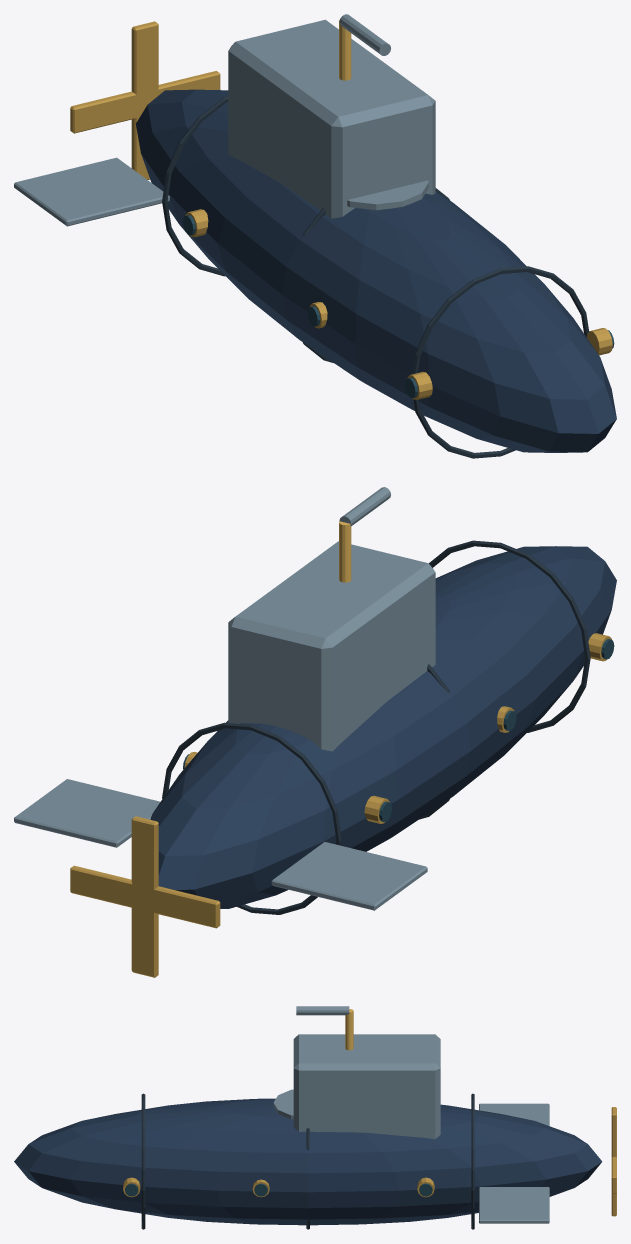
The model's file is submarines-torpedo-sub.lod0.glb.
The picture shows the model from 3 angles, top to bottom: view 1: azimuth 30°, elevation 25°; view 2: azimuth 150°, elevation 25°; view 3: azimuth 270°, elevation 25°; orthographic projection. The views are drawn at different scales.
Parts seen in each view (by area): view 1: submarines-torpedo-sub__body, submarines-torpedo-sub__propeller, submarines-torpedo-sub__hatch; view 2: submarines-torpedo-sub__body, submarines-torpedo-sub__propeller; view 3: submarines-torpedo-sub__body, submarines-torpedo-sub__propeller, submarines-torpedo-sub__hatch.
Boxes of the visible parts, <box> form: submarines-torpedo-sub__body: <box>14,14,616,458</box>; submarines-torpedo-sub__propeller: <box>70,21,220,179</box>; submarines-torpedo-sub__hatch: <box>347,180,428,210</box>; submarines-torpedo-sub__body: <box>14,487,616,914</box>; submarines-torpedo-sub__propeller: <box>70,816,220,977</box>; submarines-torpedo-sub__body: <box>14,1006,602,1229</box>; submarines-torpedo-sub__propeller: <box>611,1107,616,1216</box>; submarines-torpedo-sub__hatch: <box>273,1089,293,1119</box>.
Bounding box in the file's own units: 6.11 × 5.3 × 13.32.
